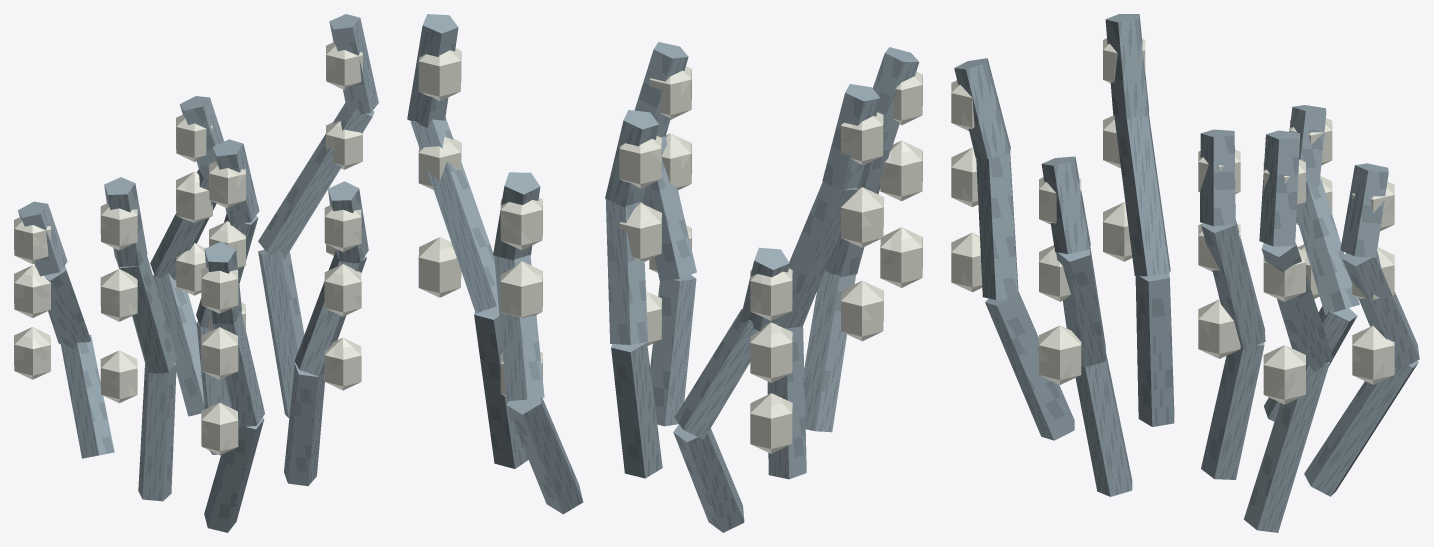
The model's file is f_alien_weed_2.glb.
3 views of the same model, side by side, from view 1: azimuth 30°, elevation 25°; view 2: azimuth 150°, elevation 25°; view 3: azimuth 270°, elevation 25° (orthographic). The views are drawn at different scales.
Visible parts, largest first — view 1: block_white-stem-globe (×19), block_segmented-plant-stem-1 (×7), block_segmented-plant-stem-2 (×7), block_segmented-plant-stem-3 (×7); view 2: block_white-stem-globe (×19), block_segmented-plant-stem-1 (×7), block_segmented-plant-stem-2 (×7), block_segmented-plant-stem-3 (×7); view 3: block_segmented-plant-stem-1 (×7), block_segmented-plant-stem-2 (×7), block_segmented-plant-stem-3 (×7), block_white-stem-globe (×18).
Boxes of the visible parts, left/top/right/bottom form: block_white-stem-globe (×19): left=14, top=42, right=362, bottom=455; block_segmented-plant-stem-1 (×7): left=60, top=249, right=324, bottom=532; block_segmented-plant-stem-2 (×7): left=44, top=102, right=374, bottom=427; block_segmented-plant-stem-3 (×7): left=18, top=14, right=378, bottom=324; block_white-stem-globe (×19): left=418, top=48, right=922, bottom=453; block_segmented-plant-stem-1 (×7): left=474, top=271, right=856, bottom=532; block_segmented-plant-stem-2 (×7): left=410, top=117, right=890, bottom=439; block_segmented-plant-stem-3 (×7): left=407, top=14, right=919, bottom=331; block_segmented-plant-stem-1 (×7): left=985, top=273, right=1418, bottom=532; block_segmented-plant-stem-2 (×7): left=976, top=114, right=1419, bottom=371; block_segmented-plant-stem-3 (×7): left=954, top=14, right=1388, bottom=257; block_white-stem-globe (×18): left=951, top=38, right=1394, bottom=404.
Size of the model in its own units: 0.4807 by 0.5045 by 0.4977.
Materials: 1 (1 with a texture image).
